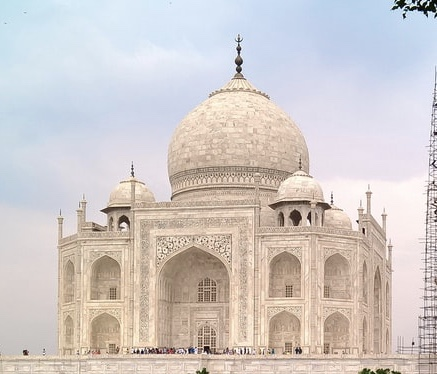Mosque: (41, 41, 406, 356)
